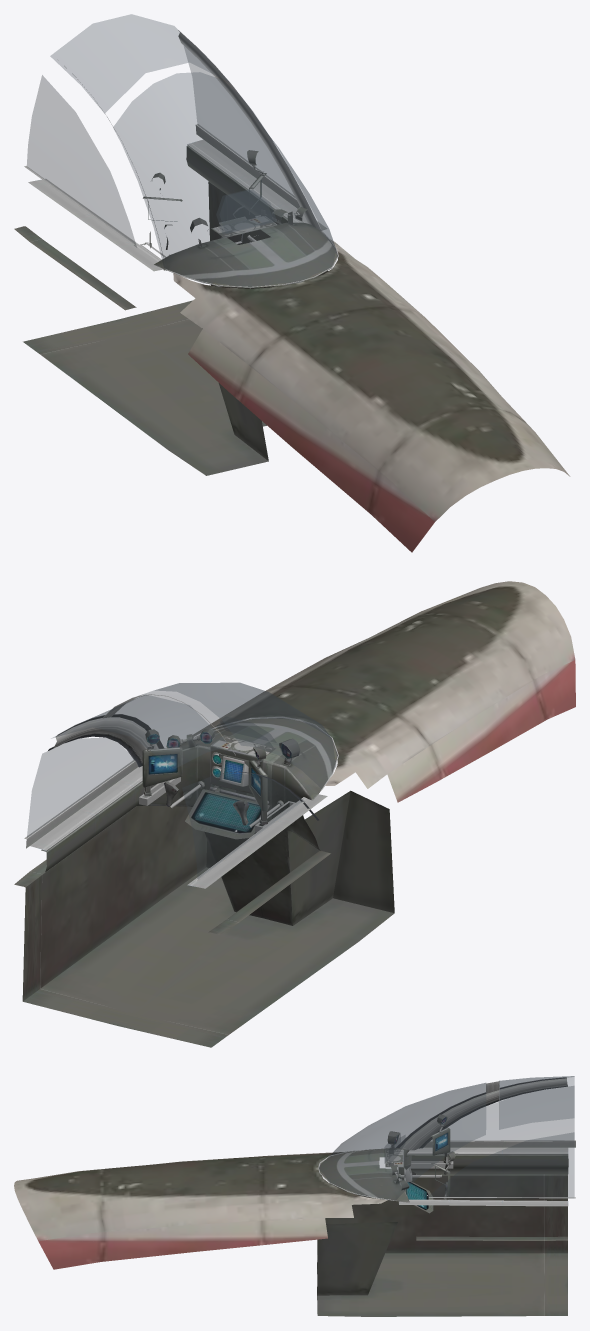
Rendered from arc170cockpit.lod1.glb.
3 views of the same model, one above another, from view 1: azimuth 30°, elevation 25°; view 2: azimuth 150°, elevation 25°; view 3: azimuth 270°, elevation 25° (orthographic). The views are drawn at different scales.
Bounding box in the file's own units: 1.17 × 1.58 × 3.96.
3 materials, 2 textured.
